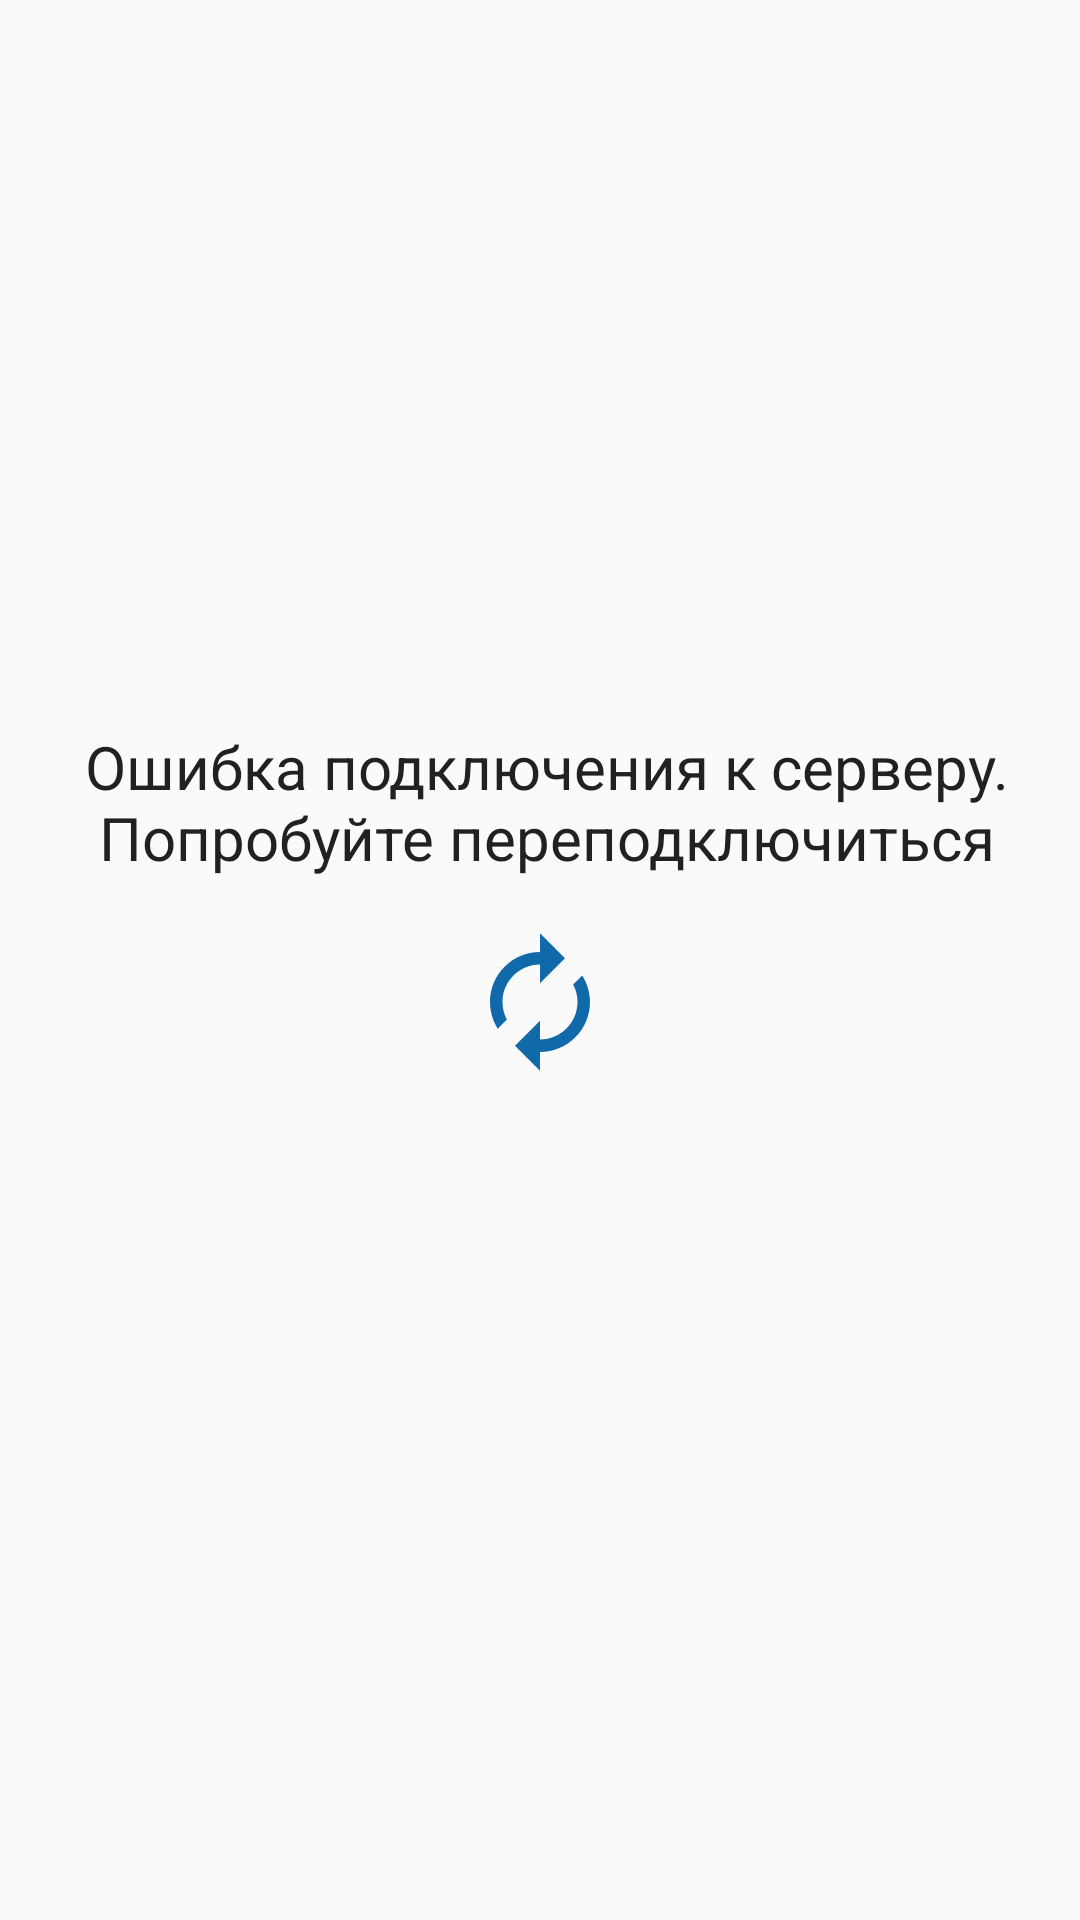

Locate icon controls on the screen. Image size 1080px x 1920px, boxes as (x1, y1, x2, y2).
autorenew: (490, 933, 590, 1071)
